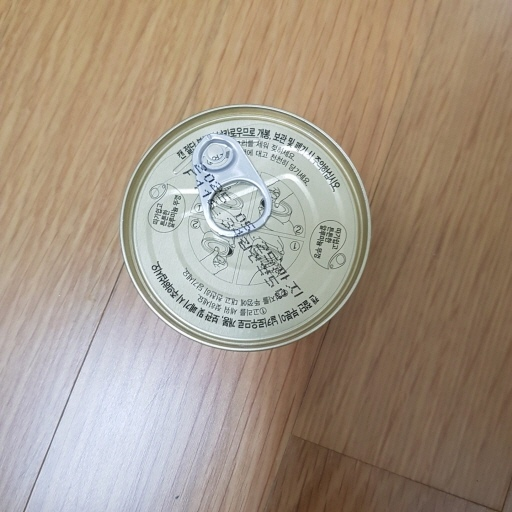Metal_1: (115, 100, 374, 352)
